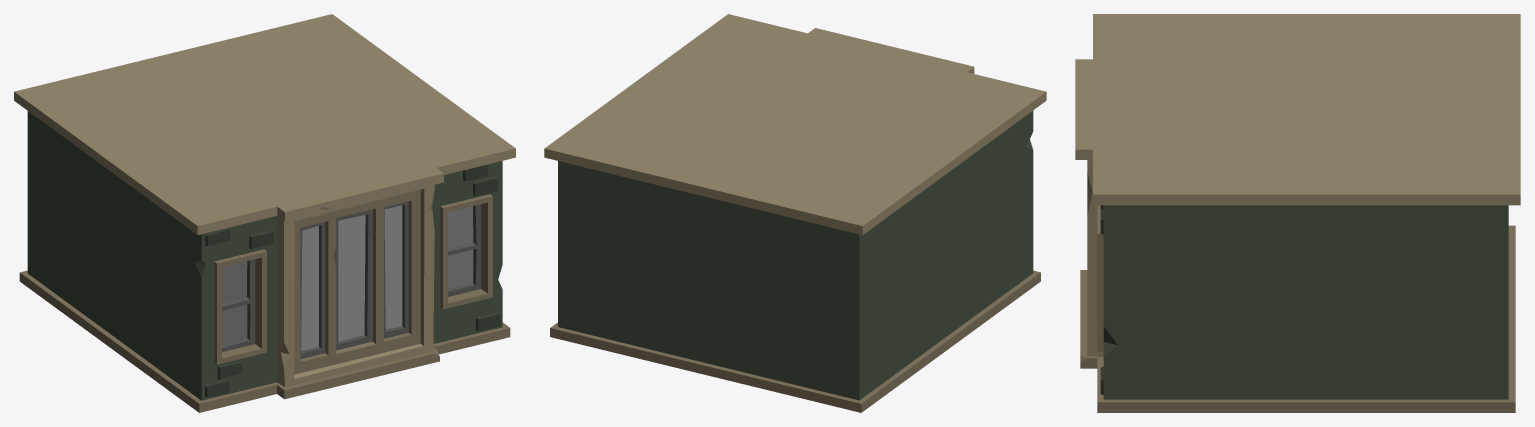
Rendered from SM_Bld_Apartment_03.fbx.
3 renders of one model, left to right at view 1: azimuth 30°, elevation 25°; view 2: azimuth 150°, elevation 25°; view 3: azimuth 270°, elevation 25°, orthographic. The views are drawn at different scales.
Visible parts, largest first — view 1: Default, window3, window1, window2; view 2: Default; view 3: Default.
Part boxes in pixels (<box>): Default: <box>14,14,515,412</box>; window3: <box>301,205,402,350</box>; window1: <box>448,206,473,288</box>; window2: <box>222,261,247,344</box>; Default: <box>544,14,1046,412</box>; Default: <box>1075,14,1520,412</box>.
Size of the model in its own units: 5.28 by 3 by 5.5.
2 materials, 1 textured.
